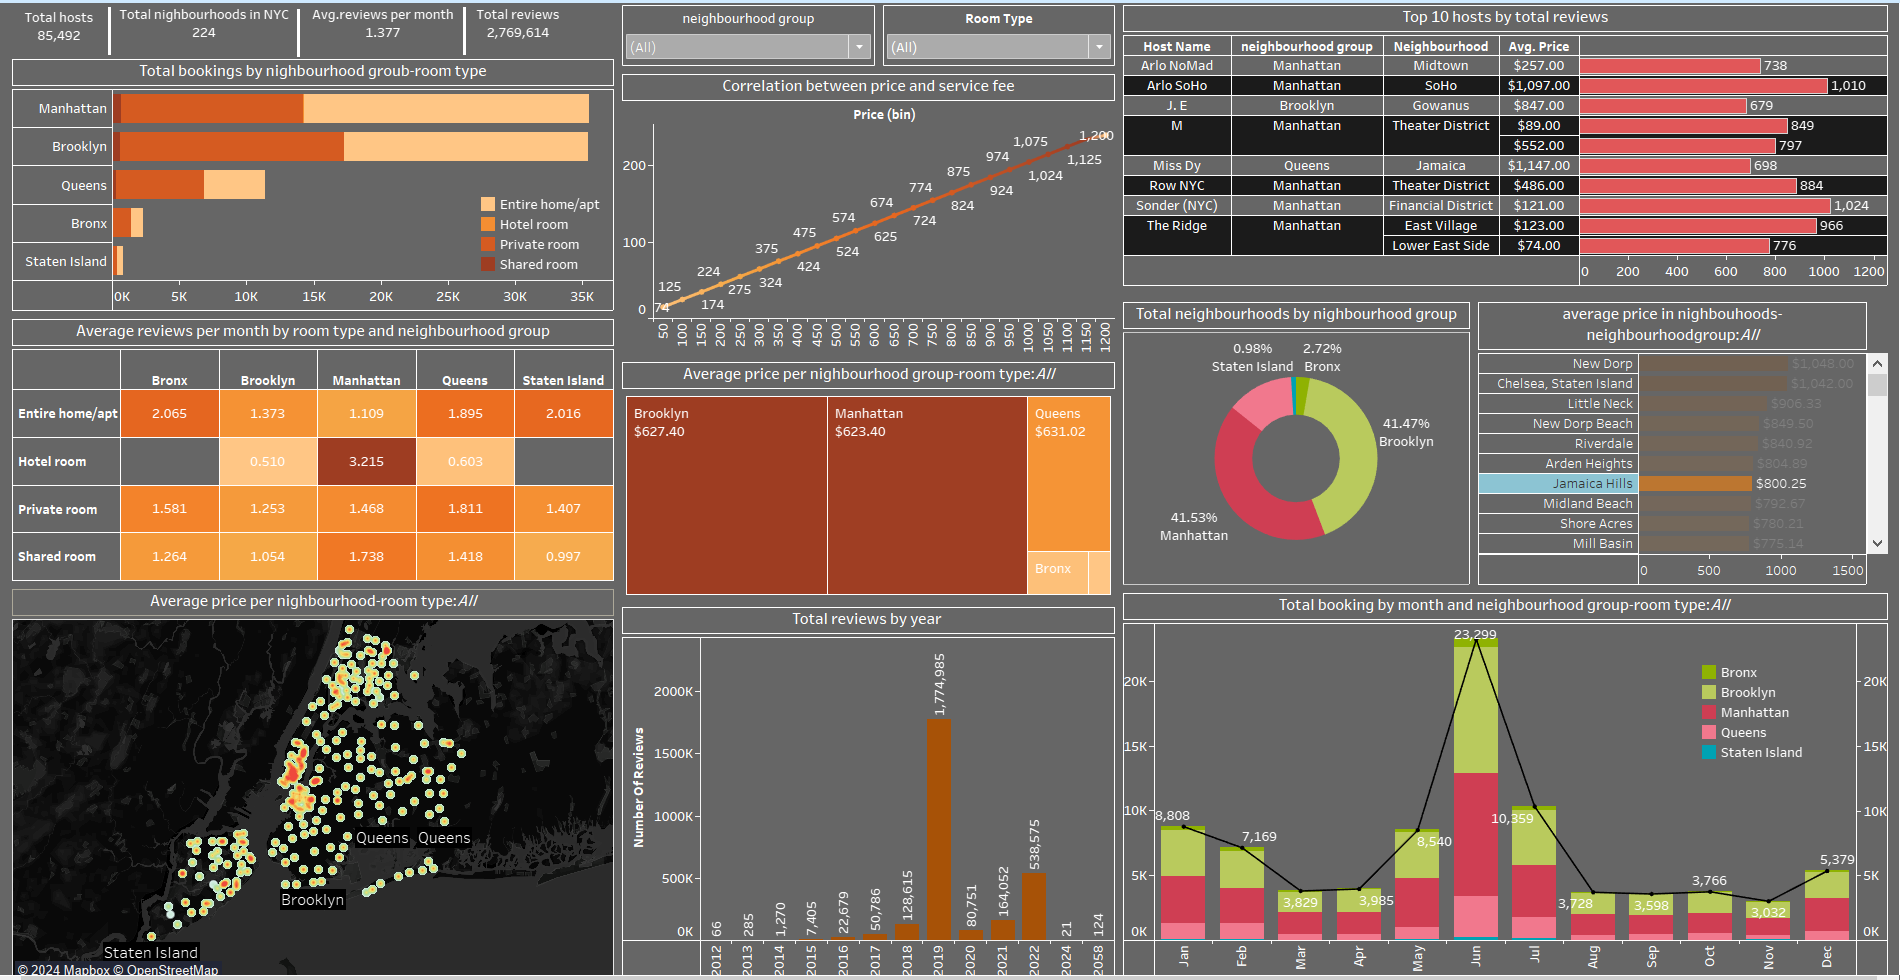

What the dashboard file says about the page in this screenshot:
{"tool":"tableau","page":{"name":"Dashboard 1","canvas":[1900,1000],"ordinal":0},"visuals":[{"type":"worksheet","title":"Sheet 22","mark":"Automatic","box":[8,8,103,54]},{"type":"worksheet","title":"Sheet 23","mark":"Automatic","box":[111,8,193,54]},{"type":"worksheet","title":"Sheet 24","mark":"Automatic","box":[304,8,159,54]},{"type":"worksheet","title":"Sheet 25","mark":"Automatic","box":[463,8,155,54]},{"type":"filter","title":"Sheet 20","param":"[federated.10753q019q8ls80zp68iz0w52h4o].[none:neighbourhood group:nk]","box":[618,8,261.2,69]},{"type":"filter","title":"Sheet 14","param":"[federated.10753q019q8ls80zp68iz0w52h4o].[none:room type:nk]","box":[879.2,8,240.2,69]},{"type":"worksheet","title":"Sheet 16","mark":"Automatic","rows":["host name","neighbourhood group","neighbourhood","price"],"cols":["number of reviews"],"box":[1119.4,8,772.6,297]},{"type":"blank","box":[108,14,3,48]},{"type":"blank","box":[463,14,3,48]},{"type":"blank","box":[297,16,3,48]},{"type":"worksheet","title":"Sheet 17","mark":"Automatic","rows":["neighbourhood group"],"cols":["NAME"],"box":[8,62,610,260]},{"type":"worksheet","title":"Sheet 2","mark":"Line","rows":["service fee"],"cols":["Price (bin)"],"box":[618,77,501.4,288]},{"type":"legend","title":"Sheet 17","param":"[federated.10753q019q8ls80zp68iz0w52h4o].[none:room type:nk]","box":[478,201,140,100]},{"type":"worksheet","title":"Sheet 15","mark":"Pie","rows":["Calculation_285978580287418369","Calculation_285978580287418369"],"box":[1119.4,305,354.6,291]},{"type":"worksheet","title":"Sheet 20","mark":"Automatic","rows":["neighbourhood"],"cols":["price"],"box":[1474,305,418,291]},{"type":"worksheet","title":"Sheet 21","mark":"Square","rows":["room type"],"cols":["neighbourhood group"],"box":[8,322,610,270]},{"type":"worksheet","title":"Sheet 19","mark":"Automatic","box":[618,365,501.4,245]},{"type":"worksheet","title":"Sheet 13","mark":"Heatmap","rows":["lat"],"cols":["long"],"box":[8,592,610,400]},{"type":"worksheet","title":"Sheet 14","mark":"Bar","rows":["NAME","NAME"],"cols":["last review"],"box":[1119.4,596,772.6,396]},{"type":"worksheet","title":"Sheet 18","mark":"Bar","rows":["number of reviews"],"cols":["last review"],"box":[618,610,501.4,382]},{"type":"legend","title":"Sheet 14","param":"[federated.10753q019q8ls80zp68iz0w52h4o].[none:neighbourhood group:nk]","box":[1699,669,140,119]}]}

Visuals, with their boxes in screenshot pixels (x1, y1, x2, y2), scaled from the page's 1900x1000 canvas onto the 1900x980 screenshot:
"Sheet 22" worksheet: bbox=(8, 8, 111, 61)
"Sheet 23" worksheet: bbox=(111, 8, 304, 61)
"Sheet 24" worksheet: bbox=(304, 8, 463, 61)
"Sheet 25" worksheet: bbox=(463, 8, 618, 61)
"Sheet 20" filter: bbox=(618, 8, 879, 75)
"Sheet 14" filter: bbox=(879, 8, 1119, 75)
"Sheet 16" worksheet: bbox=(1119, 8, 1892, 299)
blank: bbox=(108, 14, 111, 61)
blank: bbox=(463, 14, 466, 61)
blank: bbox=(297, 16, 300, 63)
"Sheet 17" worksheet: bbox=(8, 61, 618, 316)
"Sheet 2" worksheet (Line marks): bbox=(618, 75, 1119, 358)
"Sheet 17" legend: bbox=(478, 197, 618, 295)
"Sheet 15" worksheet (Pie marks): bbox=(1119, 299, 1474, 584)
"Sheet 20" worksheet: bbox=(1474, 299, 1892, 584)
"Sheet 21" worksheet (Square marks): bbox=(8, 316, 618, 580)
"Sheet 19" worksheet: bbox=(618, 358, 1119, 598)
"Sheet 13" worksheet (Heatmap marks): bbox=(8, 580, 618, 972)
"Sheet 14" worksheet (Bar marks): bbox=(1119, 584, 1892, 972)
"Sheet 18" worksheet (Bar marks): bbox=(618, 598, 1119, 972)
"Sheet 14" legend: bbox=(1699, 656, 1839, 772)
